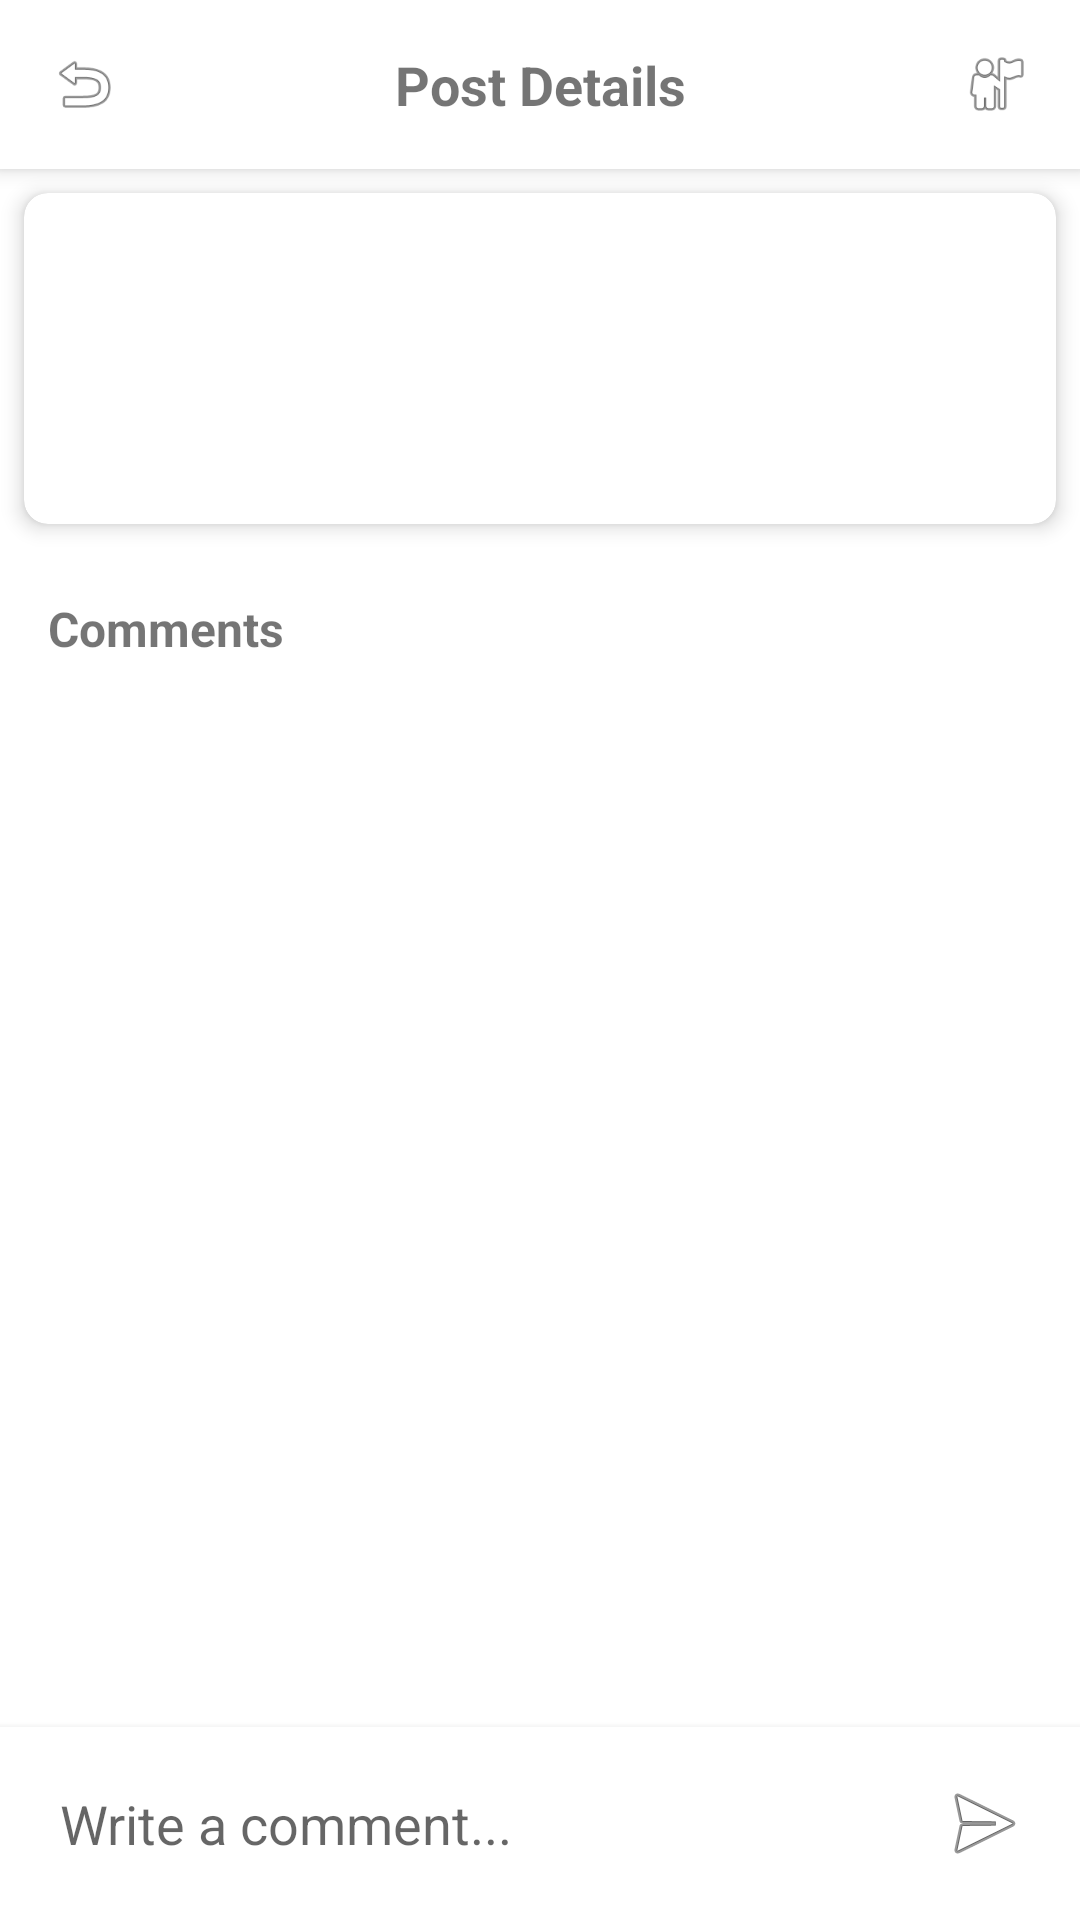

Where to tap for icons on this 1080 x 1920 app screen, as (x,y):
revert: (85,84)
send: (985,1823)
